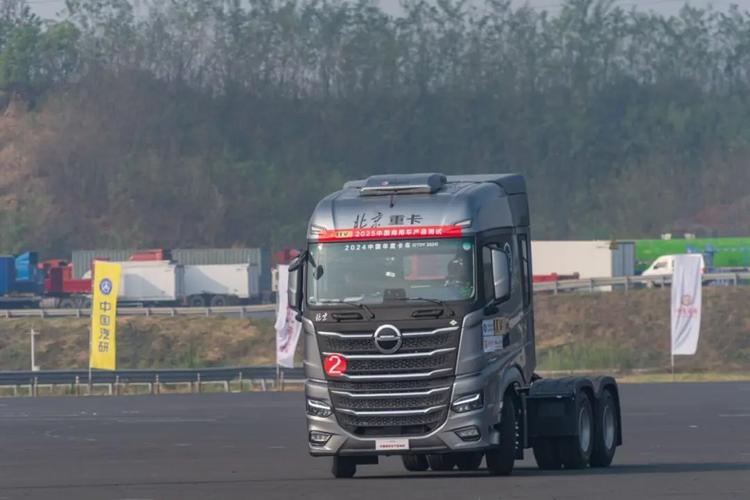卡车: (298, 158, 619, 485)
